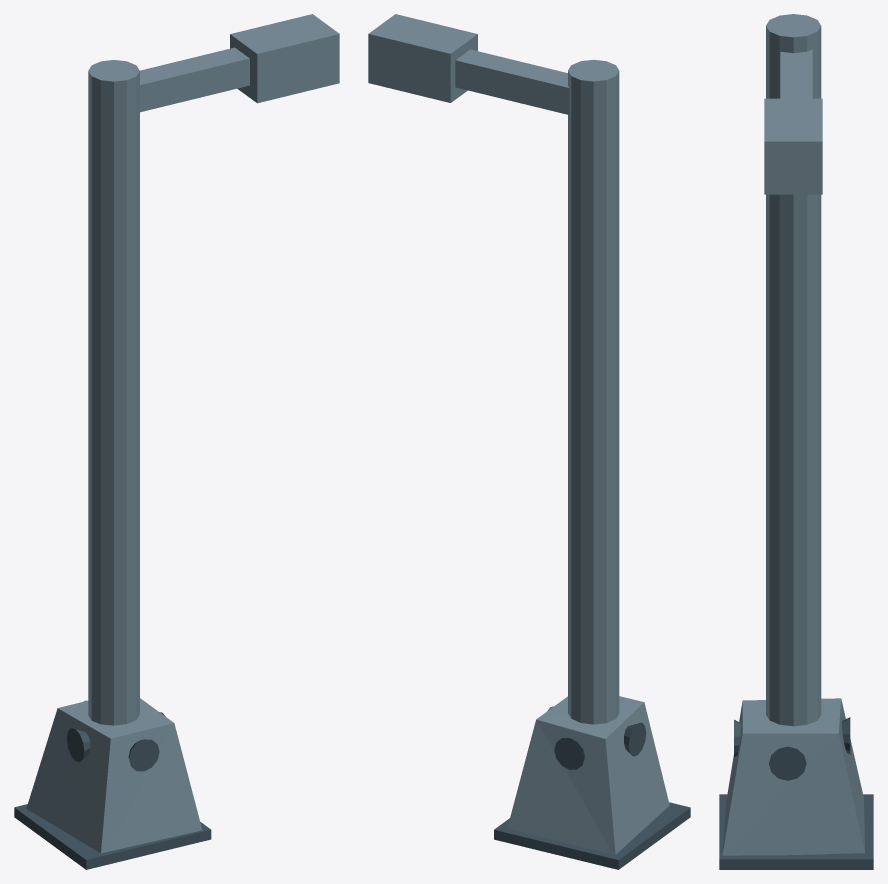
Rendered from Street Light.glb.
3 views of the same model, side by side, from view 1: azimuth 30°, elevation 25°; view 2: azimuth 150°, elevation 25°; view 3: azimuth 270°, elevation 25° (orthographic). The views are drawn at different scales.
Visible parts, largest first — view 1: Node; view 2: Node; view 3: Node.
Part boxes in pixels (x1=…): Node: x1=14, y1=14, x2=339, y2=869; Node: x1=368, y1=14, x2=690, y2=869; Node: x1=719, y1=14, x2=873, y2=869.
Size of the model in its own units: 1.17 by 3.08 by 0.53.
